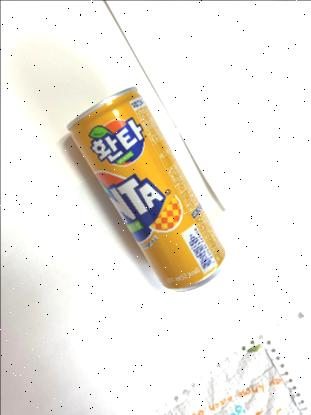Can: (64, 83, 228, 294)
